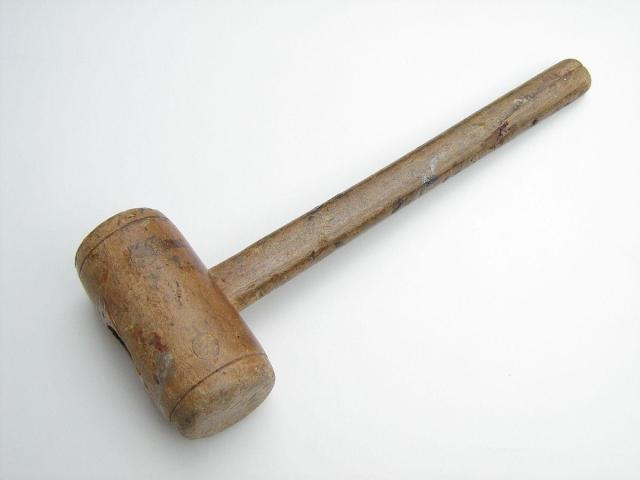hammer: (76, 58, 593, 437)
